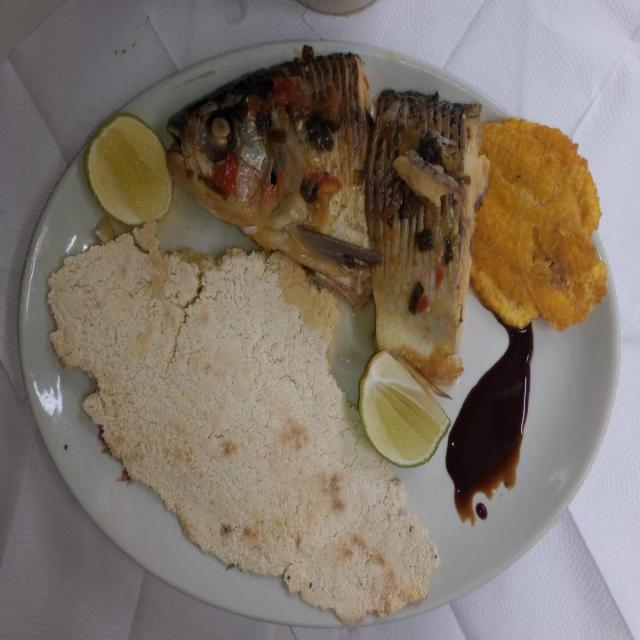pescado: (171, 62, 472, 353)
platano: (475, 98, 609, 332)
